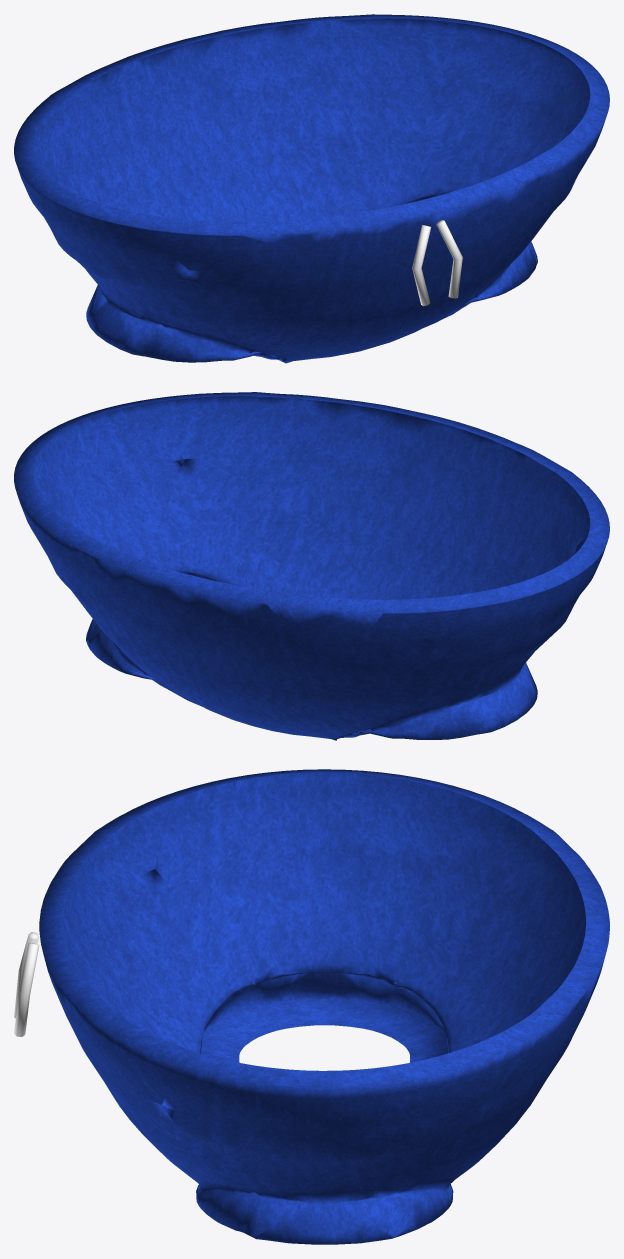
The model's file is trunks1.fbx.
3 renders of one model, top to bottom at view 1: azimuth 30°, elevation 25°; view 2: azimuth 150°, elevation 25°; view 3: azimuth 270°, elevation 25°, orthographic. The views are drawn at different scales.
Parts seen in each view (by area): view 1: trunks1; view 2: trunks1; view 3: trunks1.
Part boxes in pixels (x1,y1,x2,y2): trunks1: (14,14,609,363); trunks1: (14,392,609,740); trunks1: (14,769,609,1244).
Size of the model in its own units: 0.7932 by 0.2807 by 0.6278.
Materials: 2 (1 with a texture image).
